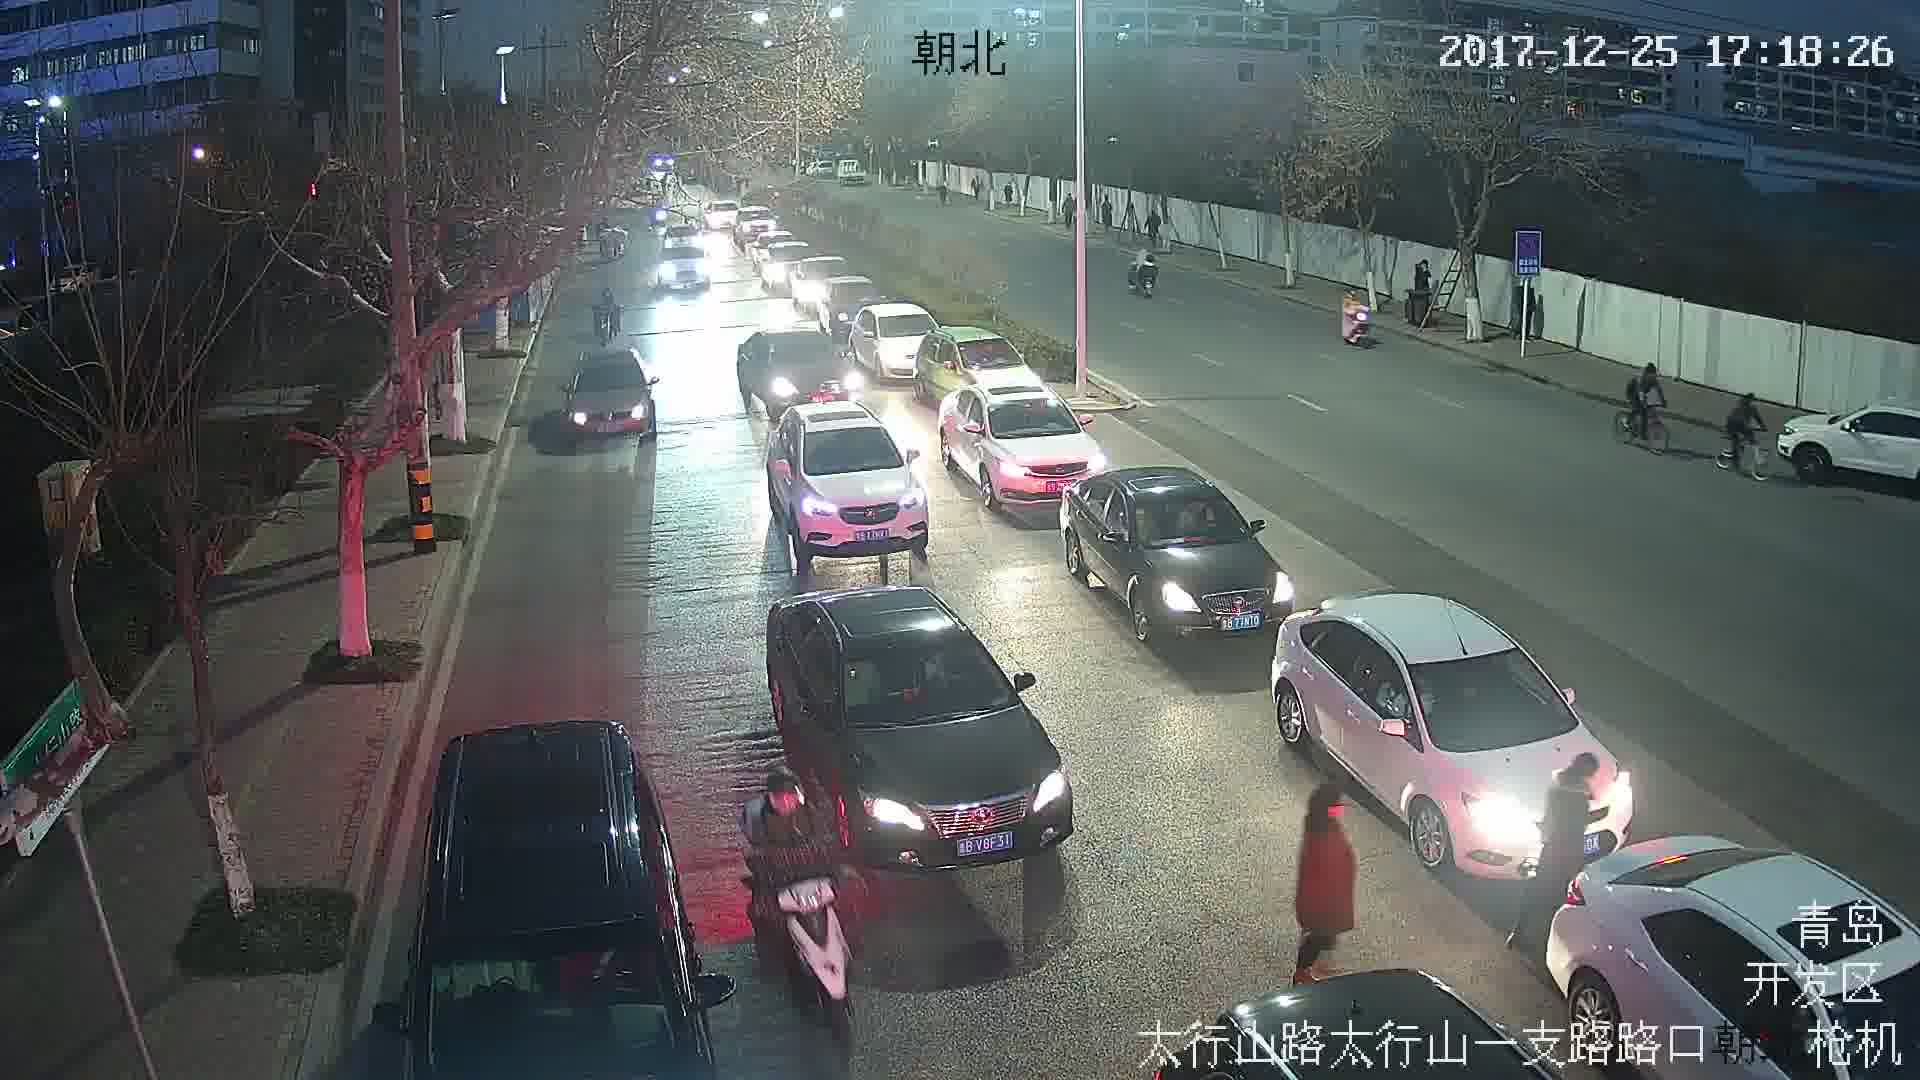car: (1280, 591, 1630, 873), (767, 591, 1077, 869), (1063, 467, 1291, 635), (766, 399, 928, 559), (935, 382, 1103, 510), (557, 341, 659, 437), (845, 303, 943, 385)
person: (742, 775, 839, 934), (1295, 781, 1353, 977), (1548, 749, 1599, 889), (1628, 356, 1664, 430), (1727, 388, 1764, 449), (1127, 239, 1157, 291), (595, 291, 620, 338), (1413, 252, 1432, 309)
